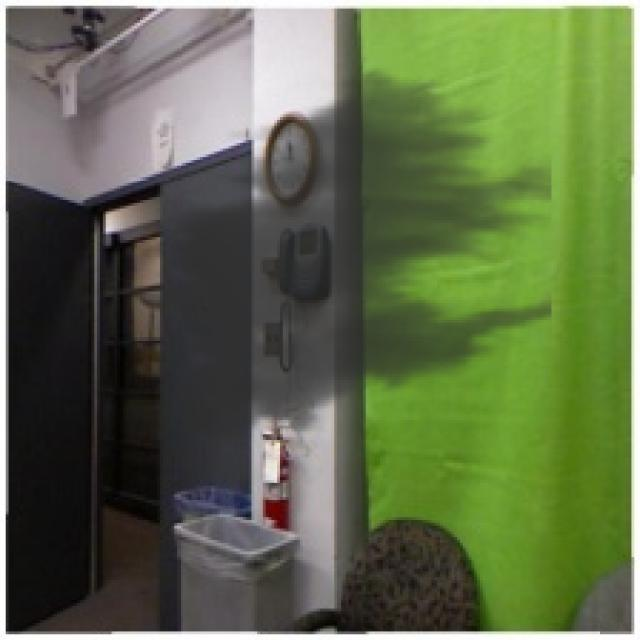smoke: (140, 57, 551, 463)
